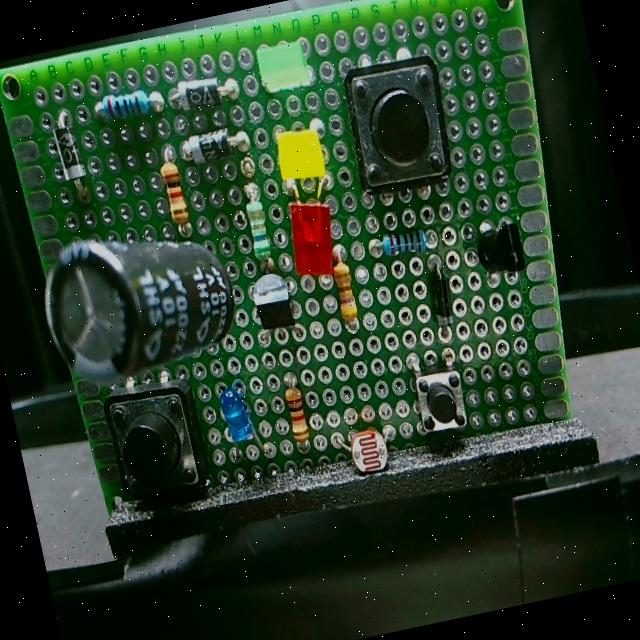Electrolytic capacitor: (28, 208, 254, 396)
cds: (326, 408, 417, 482)
diode: (162, 65, 250, 128), (46, 102, 96, 202), (416, 249, 467, 342), (174, 118, 255, 174)
led: (272, 174, 346, 286), (264, 116, 339, 202), (248, 31, 324, 108), (209, 378, 271, 472)
resistor: (150, 136, 198, 242), (81, 76, 171, 132), (358, 213, 448, 267), (234, 176, 284, 273), (273, 363, 322, 457), (328, 242, 370, 336)
switch: (329, 35, 468, 216), (92, 373, 224, 520), (399, 341, 480, 449)
transistor: (456, 208, 542, 298), (239, 263, 308, 342)
